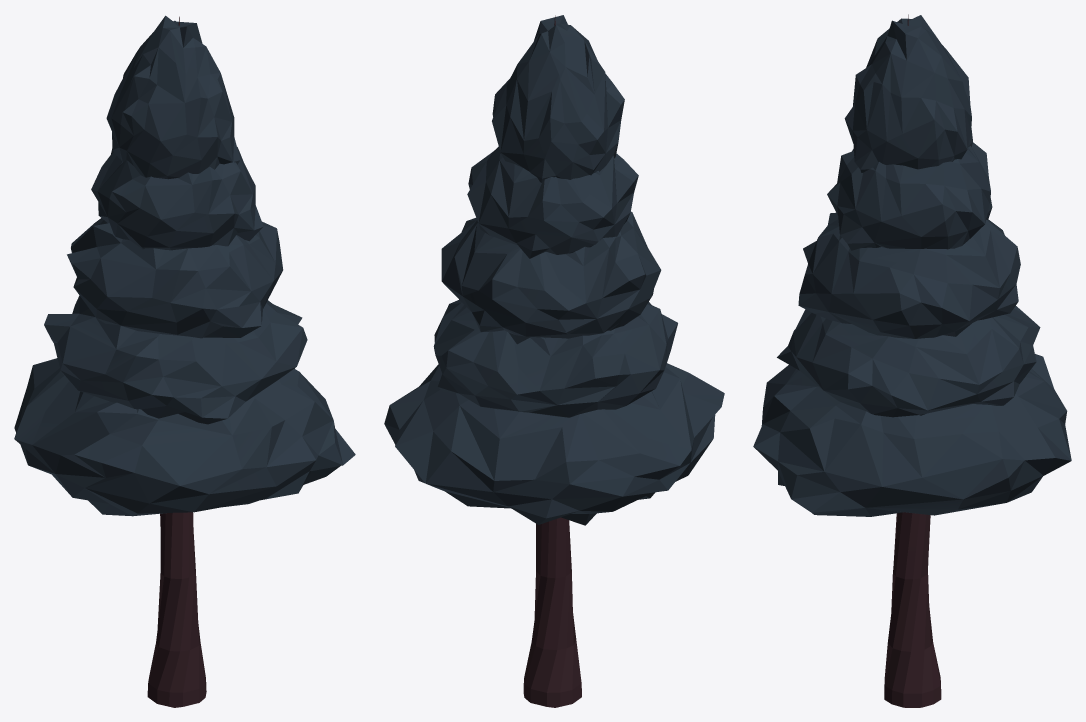
File: tree4.glb
The picture shows the model from 3 angles, left to right: view 1: azimuth 30°, elevation 25°; view 2: azimuth 150°, elevation 25°; view 3: azimuth 270°, elevation 25°; orthographic projection.
Visible parts, largest first — view 1: tree4; view 2: tree4; view 3: tree4.
Boxes of the visible parts, <box> form: tree4: <box>14,15,355,707</box>; tree4: <box>384,15,724,707</box>; tree4: <box>753,14,1071,707</box>.
Bounding box in the file's own units: 7.22 × 17.12 × 7.15.
Materials: 1 (1 with a texture image).
